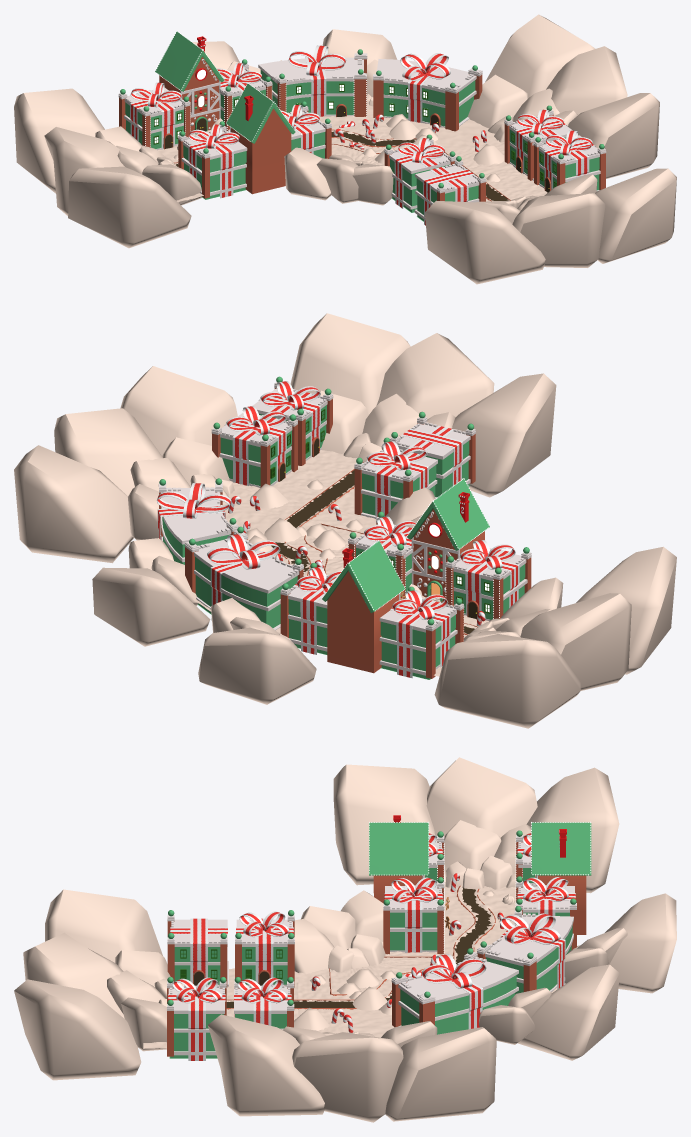
The model's file is ChristmasEnvironment_VR.fbx.
3 renders of one model, top to bottom at view 1: azimuth 30°, elevation 25°; view 2: azimuth 150°, elevation 25°; view 3: azimuth 270°, elevation 25°, orthographic. The views are drawn at different scales.
Parts seen in each view (by area): view 1: Christmas_Exterior_01, Christmas_Exterior_02, Christmas_Exterior_03, Christmas_Exterior_04, Christmas_Emissives; view 2: Christmas_Exterior_01, Christmas_Exterior_02, Christmas_Exterior_03, Christmas_Exterior_04, Christmas_Emissives; view 3: Christmas_Exterior_01, Christmas_Exterior_02, Christmas_Exterior_03, Christmas_Exterior_04, Christmas_Emissives.
Part boxes in pixels (box(x1,y1,x2,y2)): Christmas_Exterior_01: box(14, 31, 465, 248); Christmas_Exterior_02: box(284, 14, 659, 205); Christmas_Exterior_03: box(384, 105, 676, 284); Christmas_Exterior_04: box(414, 130, 606, 225); Christmas_Emissives: box(145, 31, 294, 146); Christmas_Exterior_01: box(184, 479, 676, 728); Christmas_Exterior_02: box(14, 366, 435, 646); Christmas_Exterior_03: box(211, 313, 556, 520); Christmas_Exterior_04: box(252, 376, 475, 498); Christmas_Emissives: box(322, 478, 499, 640); Christmas_Exterior_01: box(300, 757, 676, 1009); Christmas_Exterior_02: box(207, 890, 619, 1122); Christmas_Exterior_03: box(14, 889, 300, 1080); Christmas_Exterior_04: box(167, 910, 228, 1060); Christmas_Emissives: box(369, 821, 590, 952).
Size of what is drawn, in the model's own units: 477 by 90.49 by 451.
